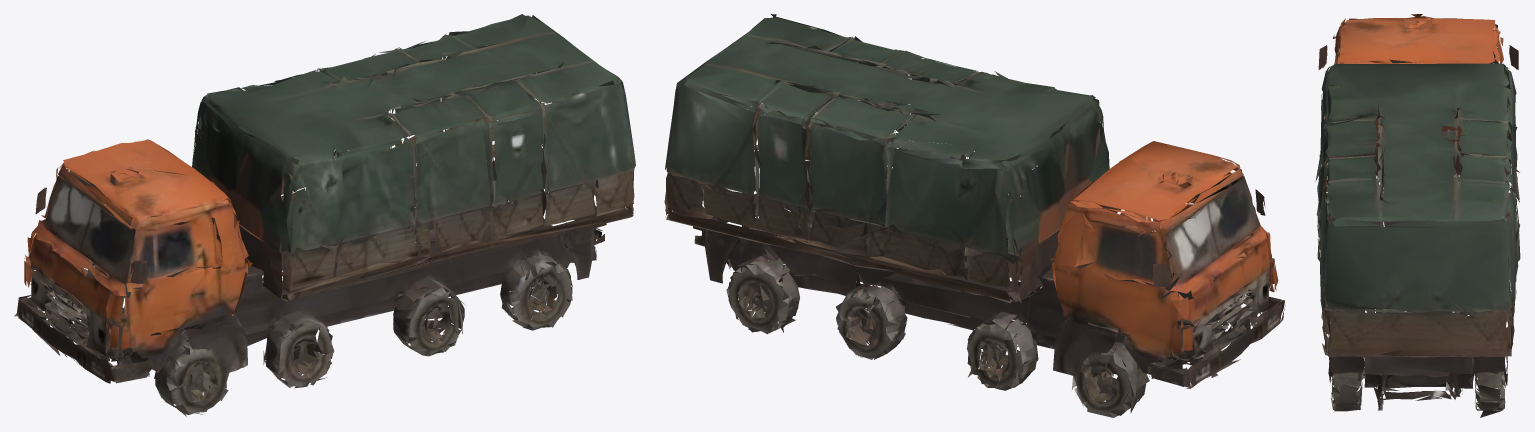
Rendered from container_kamaz.glb.
3 views of the same model, side by side, from view 1: azimuth 30°, elevation 25°; view 2: azimuth 150°, elevation 25°; view 3: azimuth 270°, elevation 25° (orthographic). The views are drawn at different scales.
Parts seen in each view (by area): view 1: container_kamaz; view 2: container_kamaz; view 3: container_kamaz.
Part boxes in pixels (x1,y1,x2,y2): container_kamaz: (14,14,635,416); container_kamaz: (664,14,1285,417); container_kamaz: (1315,14,1520,417).
Bounding box in the file's own units: 7.5 × 3.29 × 2.57.
1 material, 1 textured.
